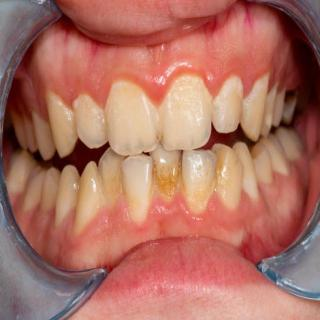Gum Swelling: (77, 56, 222, 106), (107, 192, 197, 235)
cavities: (278, 85, 300, 111)
maligned: (106, 74, 156, 156), (163, 72, 213, 148), (122, 150, 152, 220), (181, 146, 210, 216), (77, 165, 104, 240), (214, 150, 242, 210), (154, 138, 180, 200), (98, 152, 123, 212)
plaque: (166, 79, 212, 127), (105, 79, 153, 125), (72, 88, 104, 122), (219, 74, 245, 112), (244, 77, 271, 109)
stains: (181, 164, 212, 214), (124, 170, 152, 224), (155, 154, 181, 205), (213, 157, 241, 203), (100, 170, 124, 211)
